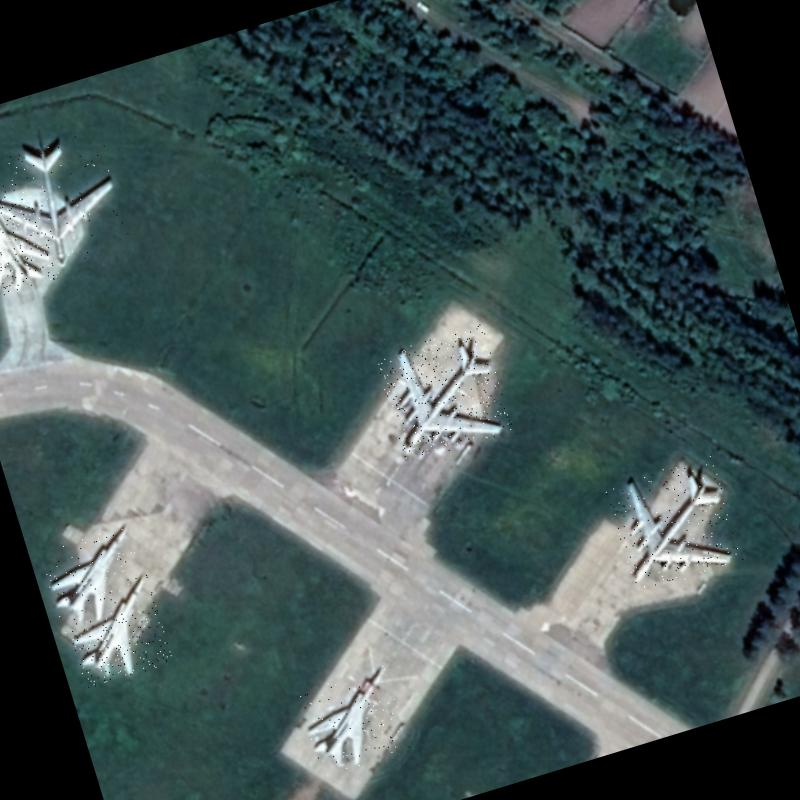A12: (294, 662, 412, 778), (59, 571, 174, 689), (38, 525, 152, 634), (0, 177, 60, 297)
A17: (0, 129, 134, 282), (374, 324, 515, 464), (604, 454, 744, 594)
